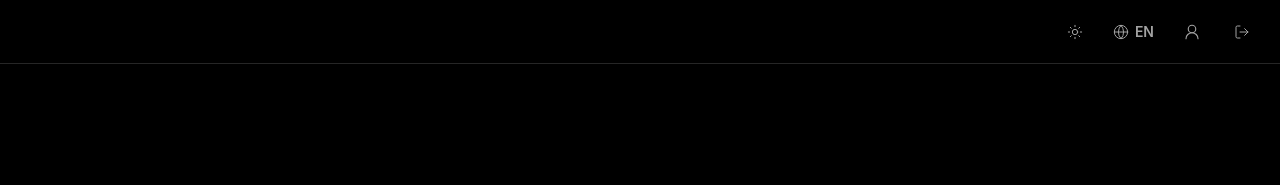
Test: HeaderToolbar › closes the dropdown and opens the settings dialog for a signed-in user
Click the button named "Konto" at (1192, 32), box [1170,10,1214,54]
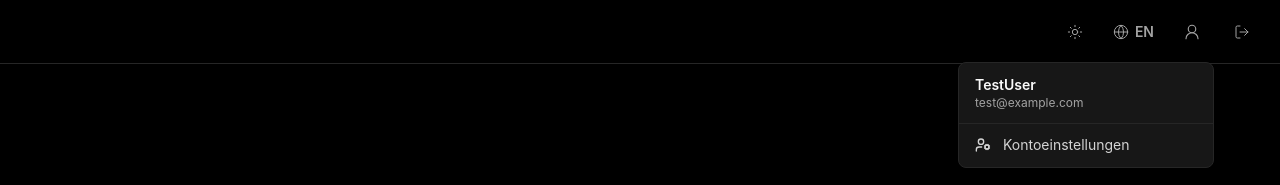
Click the button "Kontoeinstellungen" at (1086, 144), box [959,122,1213,166]
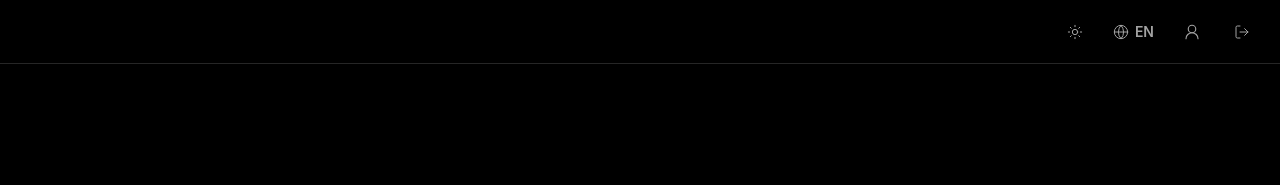
Check: the button "Kontoeinstellungen" is gone
